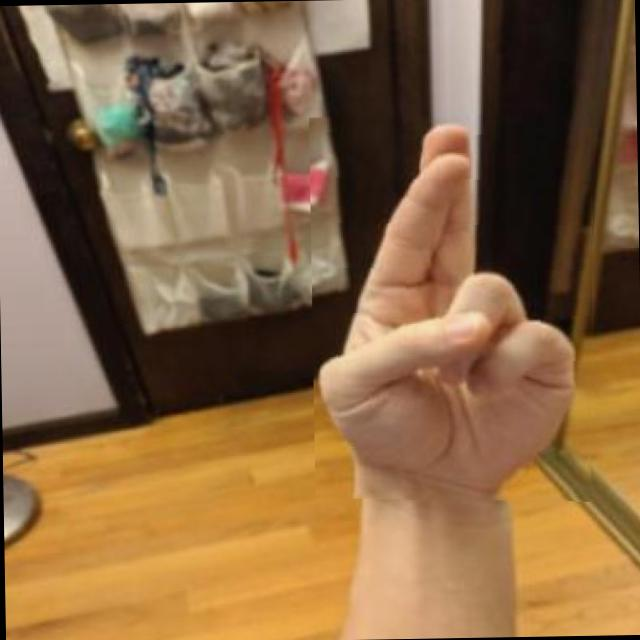R: (309, 112, 599, 506)
